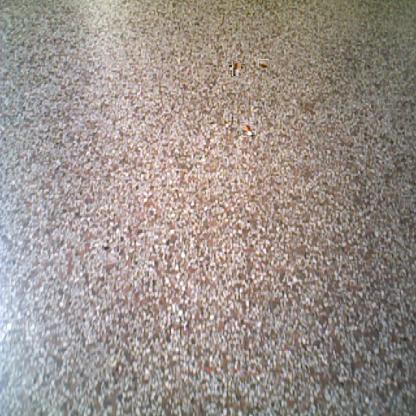dirty: (241, 122, 255, 136), (231, 62, 243, 75), (258, 59, 269, 68)
